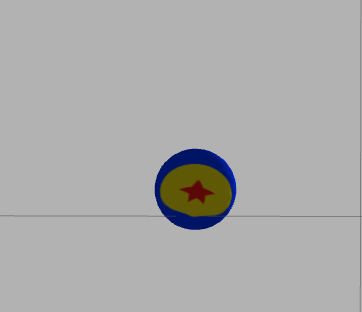toy story ball: (155, 148, 236, 229)
